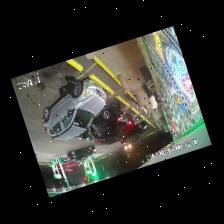person: (59, 75, 75, 97), (145, 84, 157, 110), (112, 101, 121, 114)
